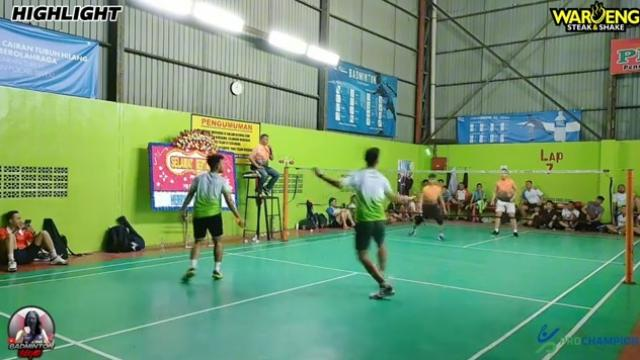Shuttlecock: (422, 148, 432, 158)
